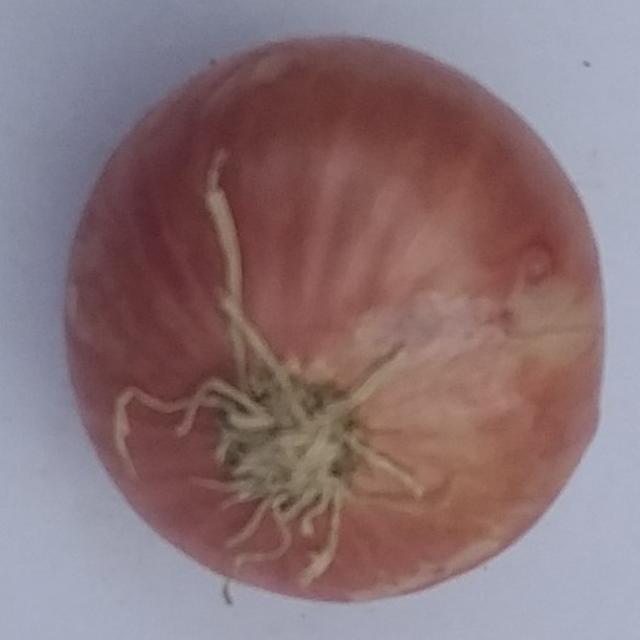onion: (64, 29, 612, 612)
